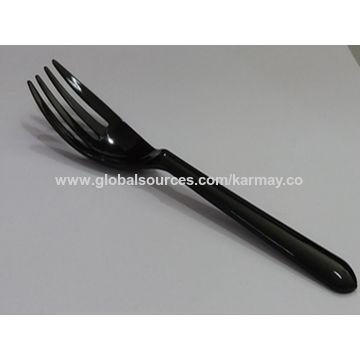Fork: (26, 59, 357, 295)
